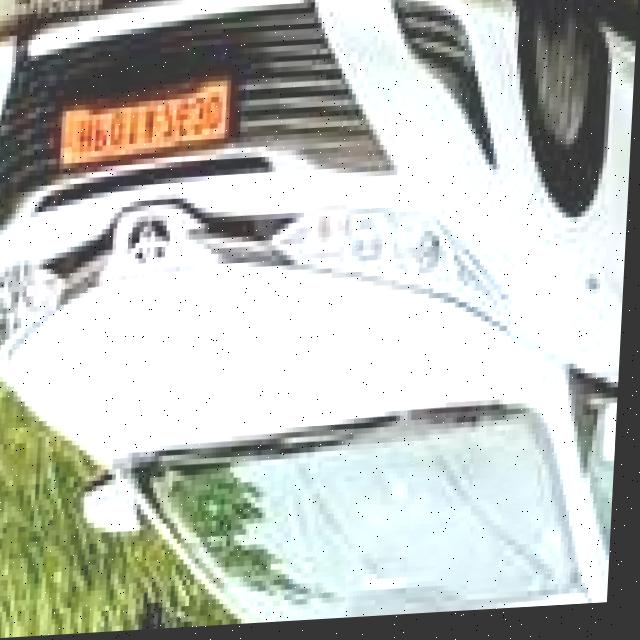plate: (64, 72, 235, 167)
